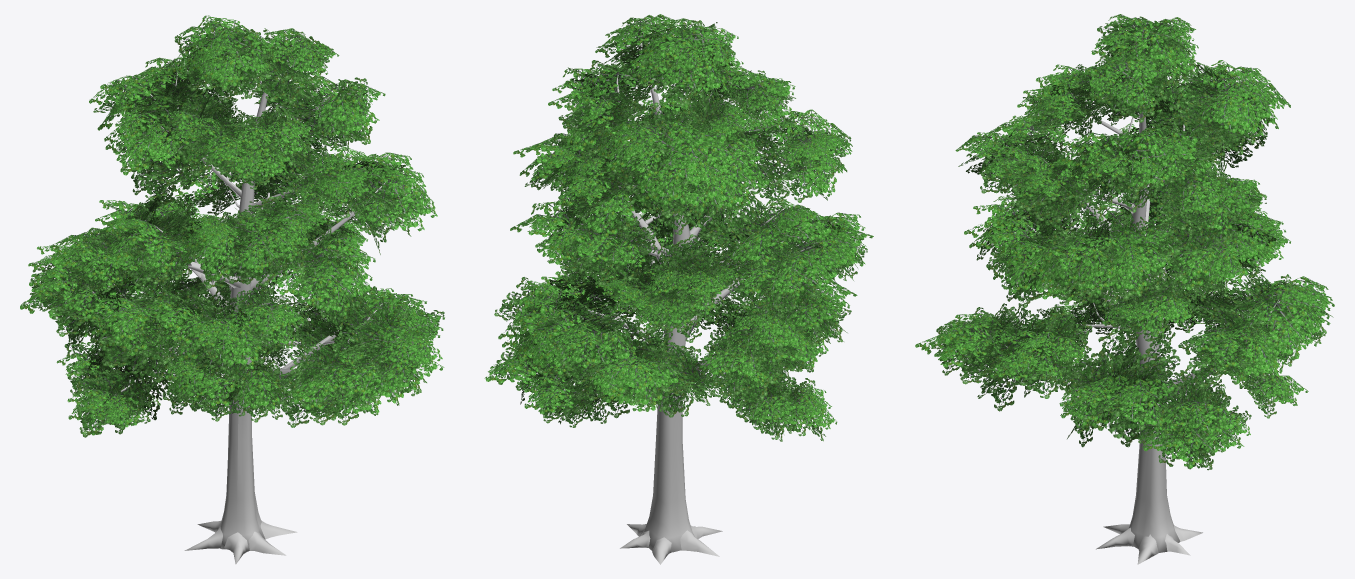
File: wood1.dae
The picture shows the model from 3 angles, left to right: view 1: azimuth 30°, elevation 25°; view 2: azimuth 150°, elevation 25°; view 3: azimuth 270°, elevation 25°; orthographic projection.
Parts seen in each view (by area): view 1: set_bg04_wood01-geom-P0, set_bg04_wood01-geom-P1; view 2: set_bg04_wood01-geom-P0, set_bg04_wood01-geom-P1; view 3: set_bg04_wood01-geom-P0, set_bg04_wood01-geom-P1.
Boxes of the visible parts, left/top/right/bottom form: set_bg04_wood01-geom-P0: left=20, top=15, right=444, bottom=437; set_bg04_wood01-geom-P1: left=84, top=28, right=400, bottom=564; set_bg04_wood01-geom-P0: left=484, top=14, right=873, bottom=441; set_bg04_wood01-geom-P1: left=532, top=20, right=823, bottom=564; set_bg04_wood01-geom-P0: left=915, top=14, right=1334, bottom=470; set_bg04_wood01-geom-P1: left=977, top=24, right=1291, bottom=564.
Size of the model in its own units: 12.04 by 16.57 by 12.63.
